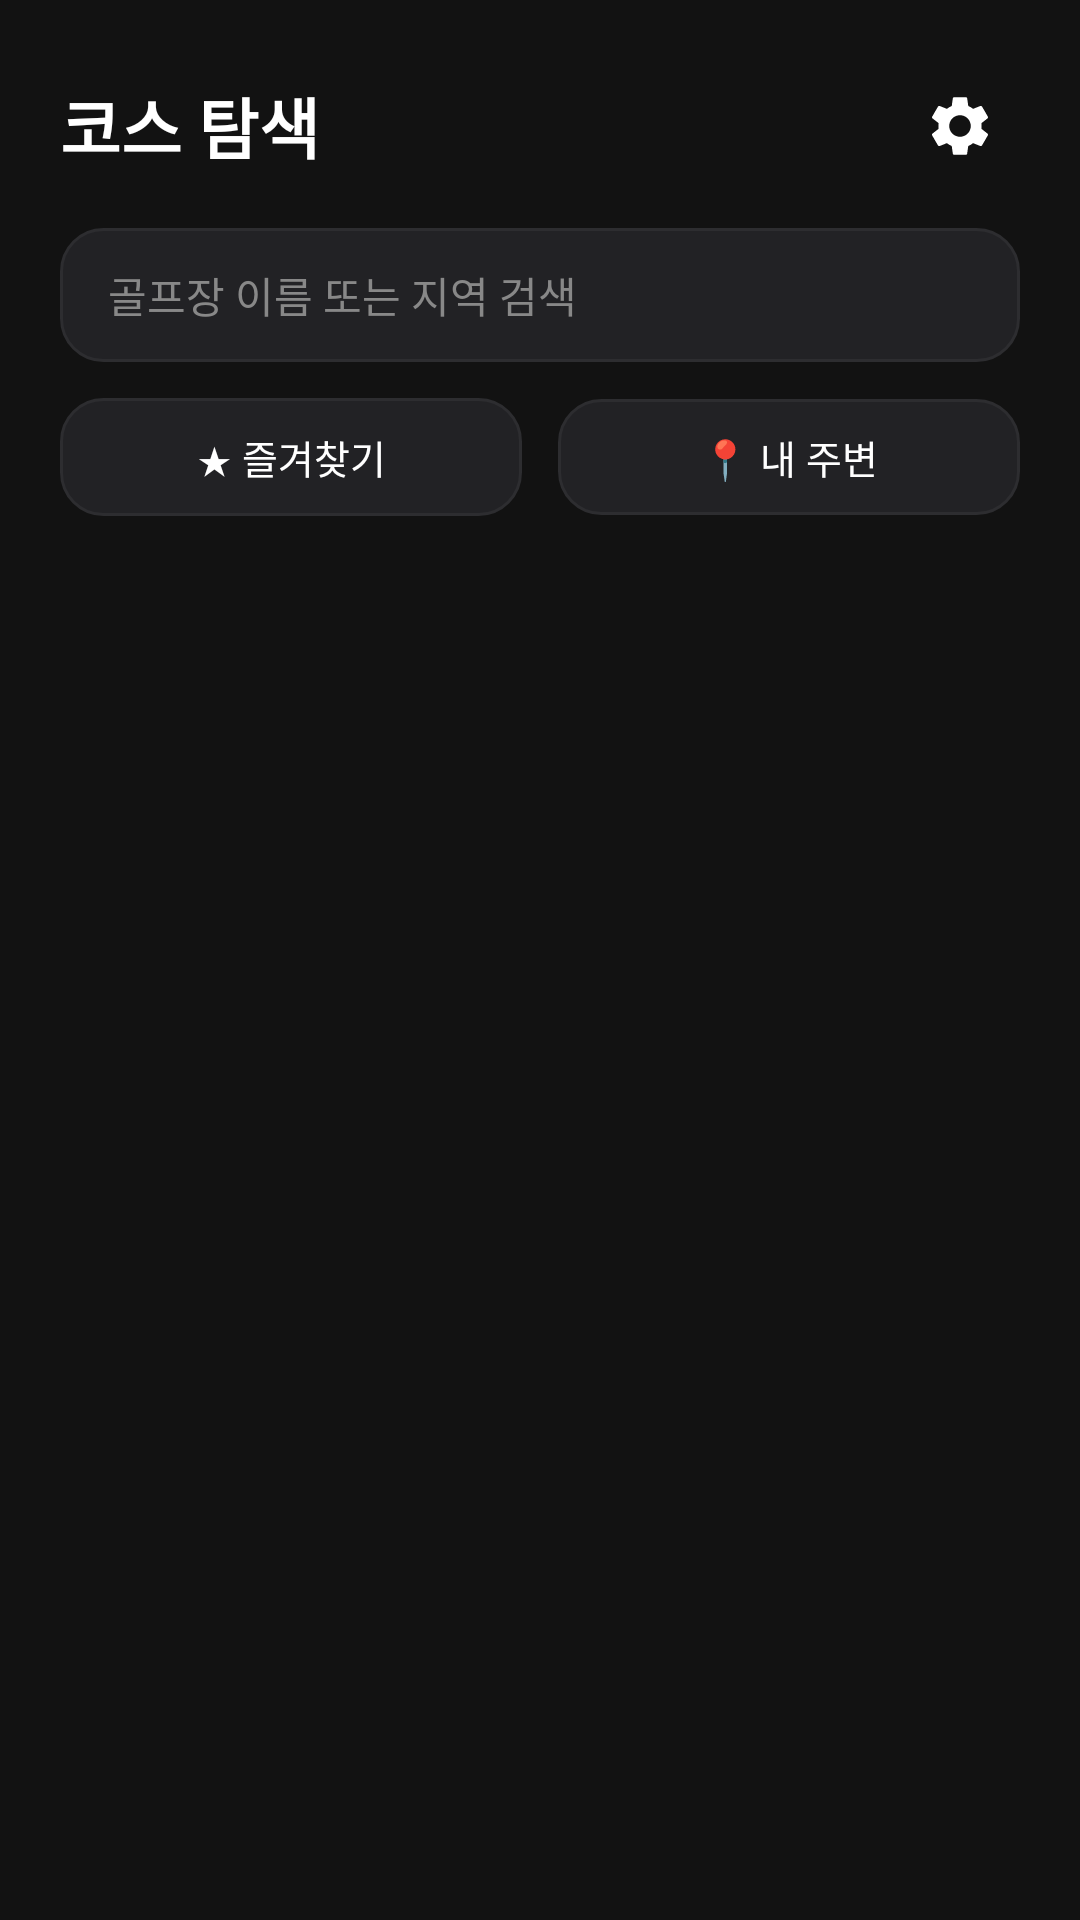

Where to tap for icons on this 1080w x 1920h app screen, as point (x, y):
settings: point (960, 126)
